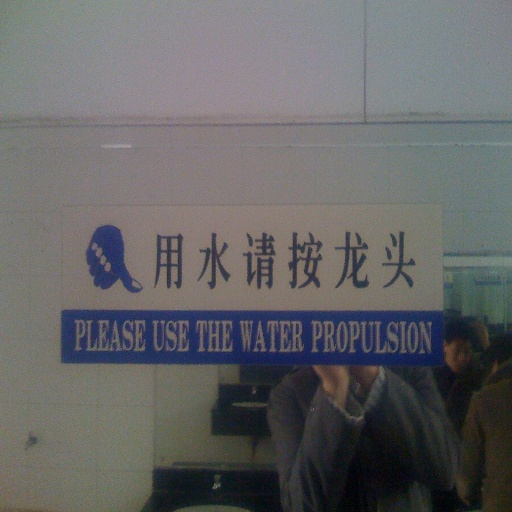hand: (311, 363, 348, 387)
